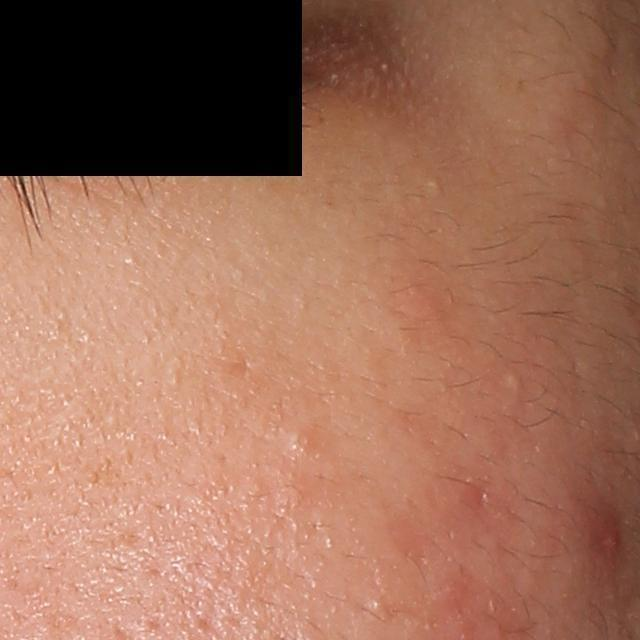comedo: (279, 420, 328, 464), (502, 367, 526, 396), (370, 597, 386, 610)
other: (424, 177, 443, 194)
papule: (597, 521, 622, 555)
